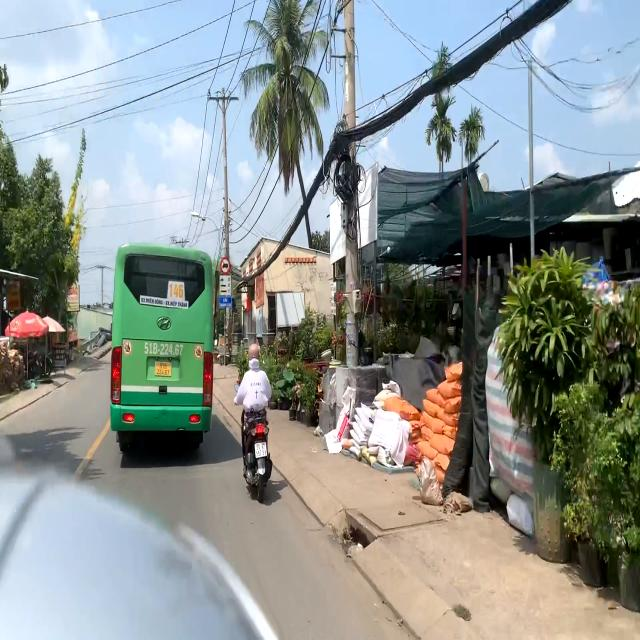P.106a: (220, 257, 231, 275)
